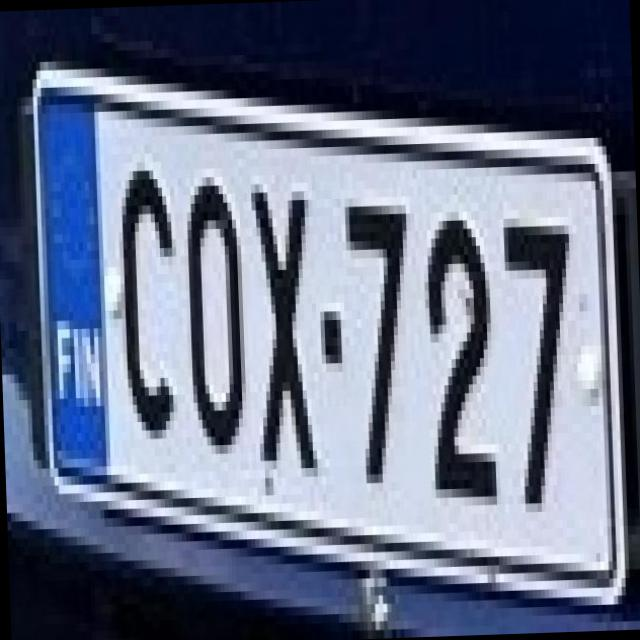0: (172, 158, 248, 446)
2: (408, 184, 504, 499)
7: (486, 198, 582, 504), (328, 178, 422, 475)
C: (108, 143, 182, 440)
X: (233, 156, 321, 470)
